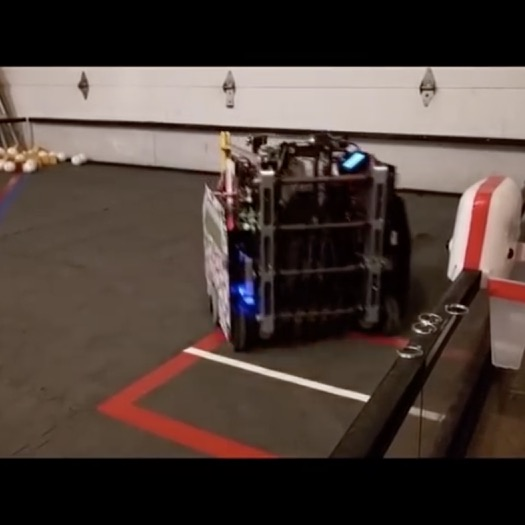robot: (197, 127, 412, 355)
